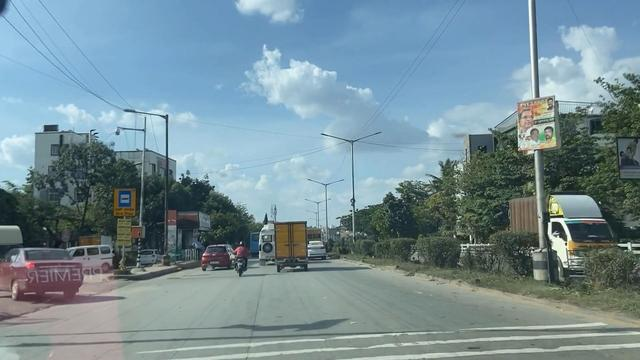HMV: (276, 220, 306, 269)
LMV: (6, 244, 78, 296), (201, 240, 233, 266), (237, 241, 247, 275)
